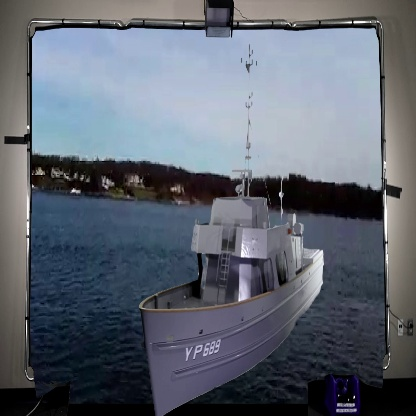YP689: (140, 41, 324, 411)
